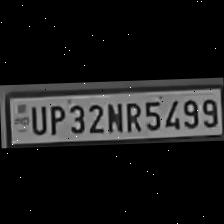2: (84, 98, 104, 132)
3: (65, 100, 84, 134)
4: (160, 95, 180, 129)
5: (140, 96, 160, 130)
9: (198, 94, 218, 128), (178, 94, 198, 127)
N: (103, 98, 121, 132)
P: (46, 101, 64, 135)
R: (122, 98, 140, 132)
U: (27, 101, 46, 134)
